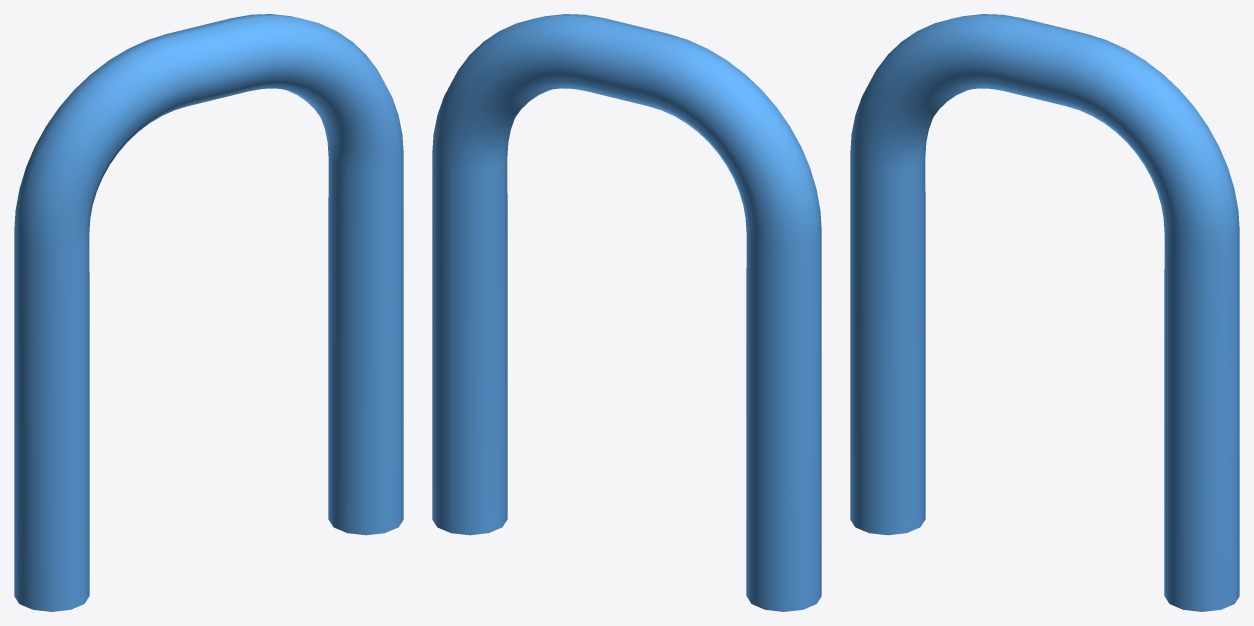
The model's file is gateLarge_teamBlue-col.glb.
The picture shows the model from 3 angles, left to right: view 1: azimuth 30°, elevation 25°; view 2: azimuth 150°, elevation 25°; view 3: azimuth 330°, elevation 25°; orthographic projection.
Visible parts, largest first — view 1: gateLarge_teamBlue-col; view 2: gateLarge_teamBlue-col; view 3: gateLarge_teamBlue-col.
Boxes of the visible parts, left/top/right/bottom form: gateLarge_teamBlue-col: left=14, top=14, right=403, bottom=611; gateLarge_teamBlue-col: left=432, top=14, right=821, bottom=611; gateLarge_teamBlue-col: left=850, top=14, right=1239, bottom=611.
Bounding box in the file's own units: 2.4 × 3.2 × 0.4126.
